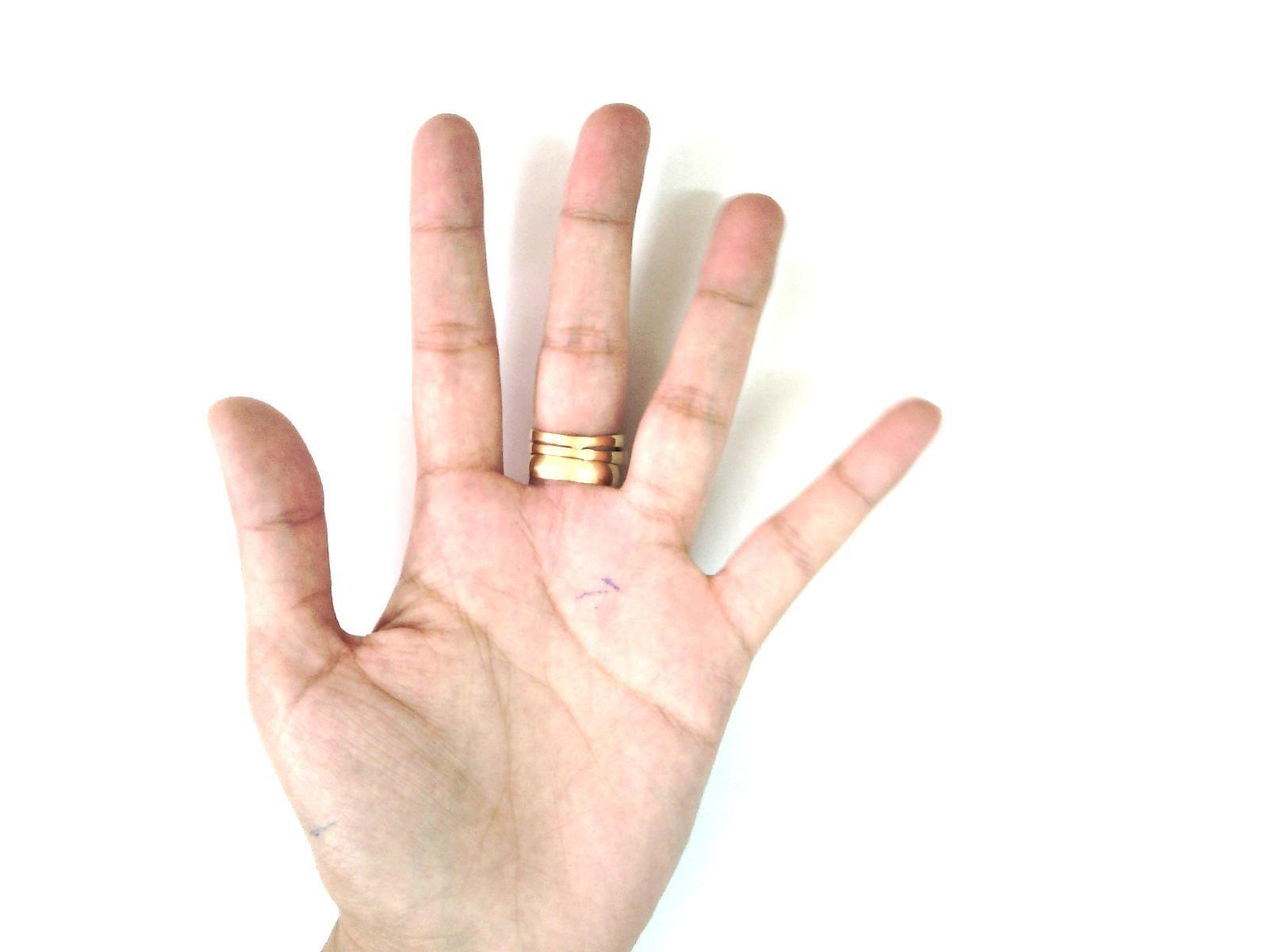open_palm: (205, 102, 945, 951)
